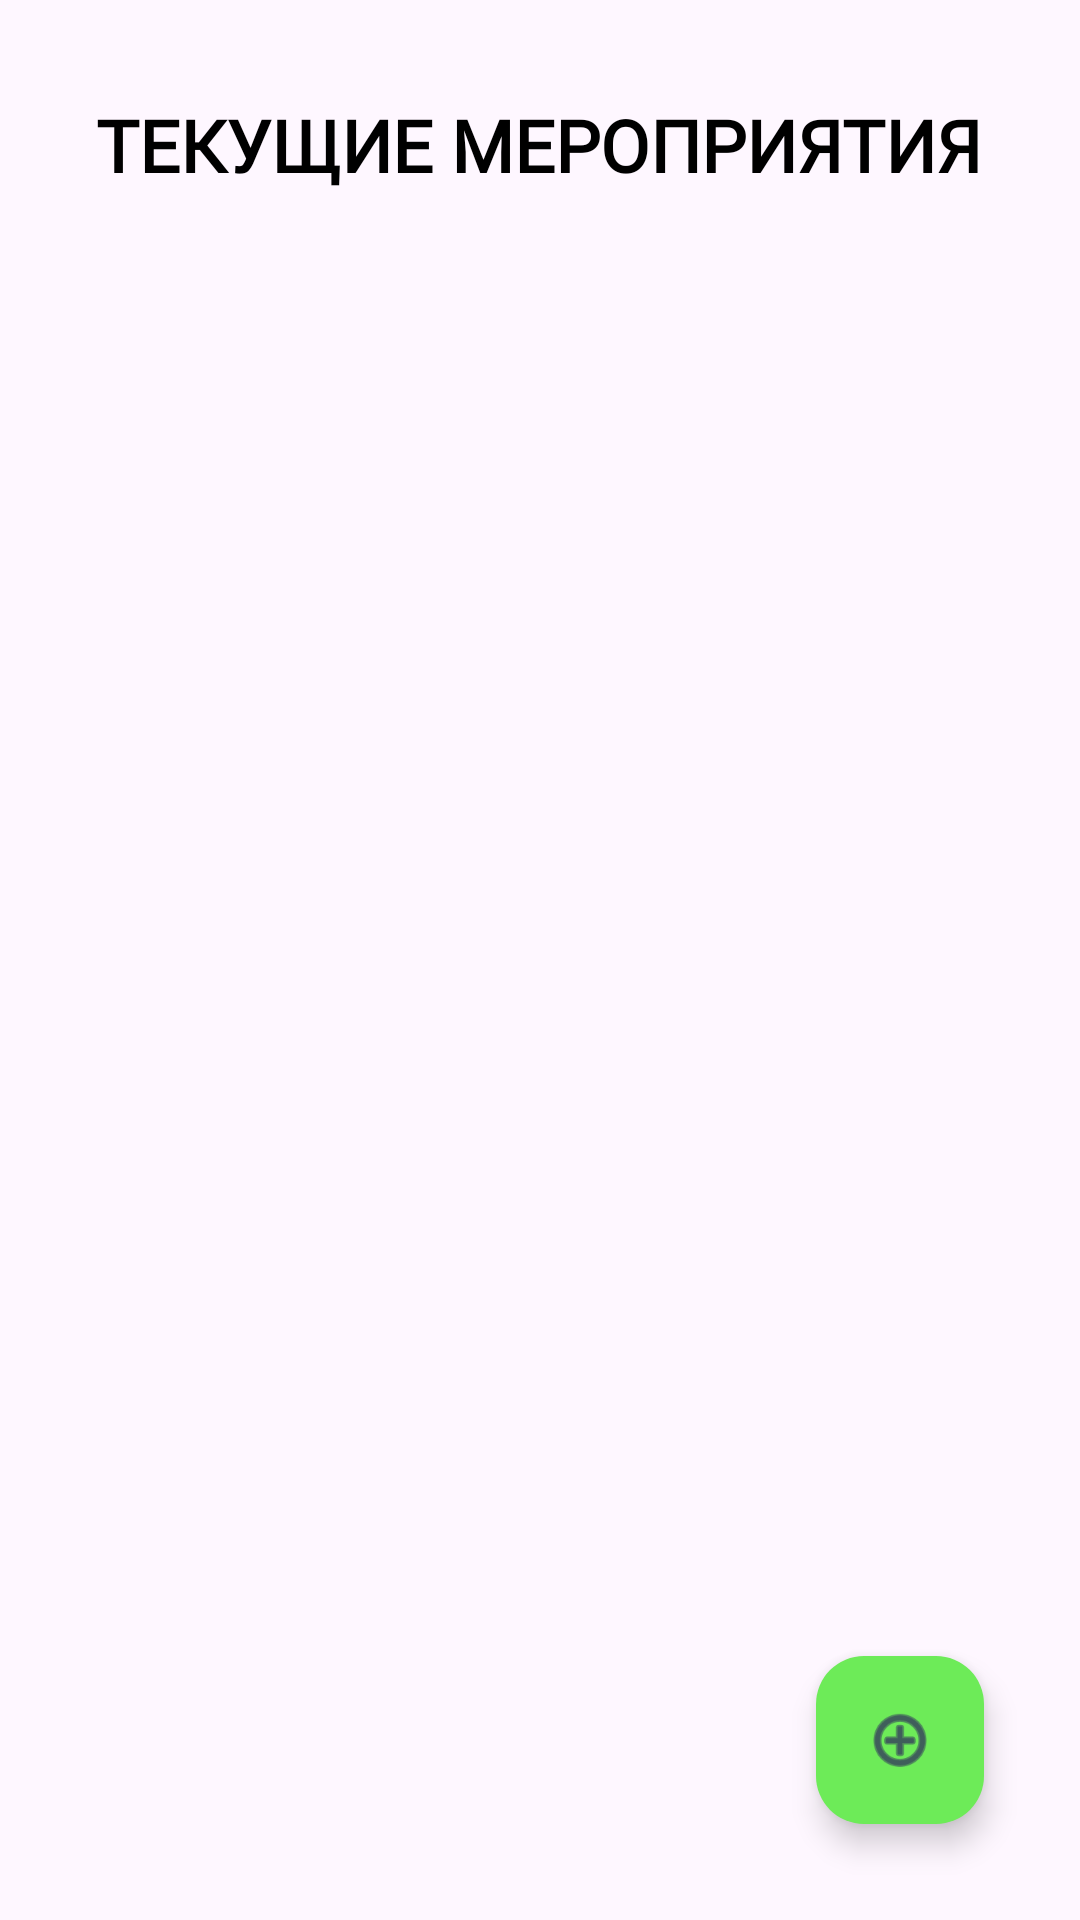

Icons on this 1080px x 1920px Android screen, each with its box as (x1, y1, x2, y2):
Добавить событие: (816, 1656, 984, 1824)
